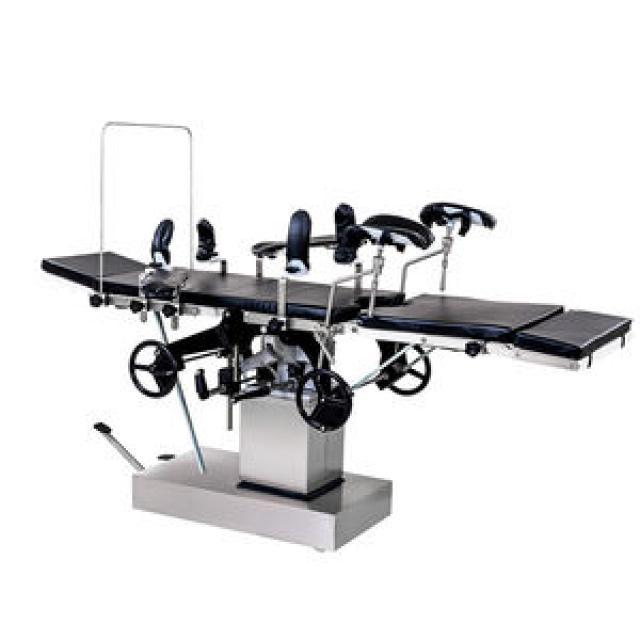bed: (39, 120, 632, 552)
